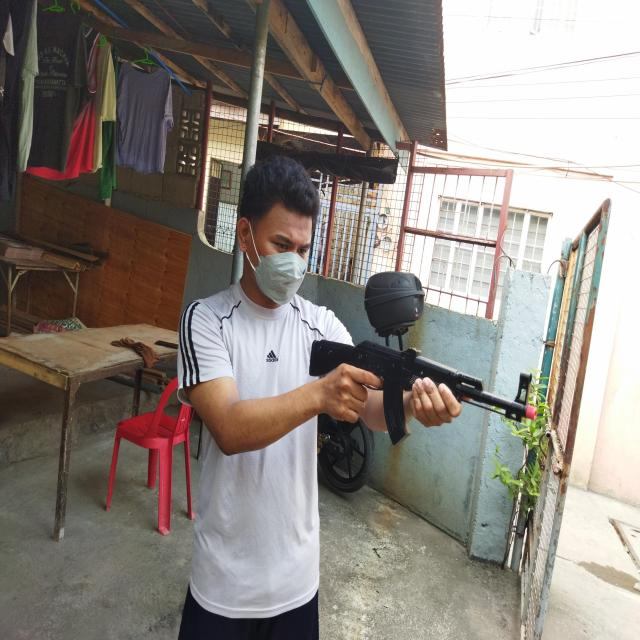rifle: (307, 322, 541, 448)
